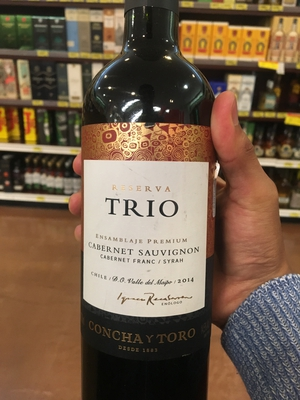trio cabernet sauvignon: (71, 15, 232, 400)
